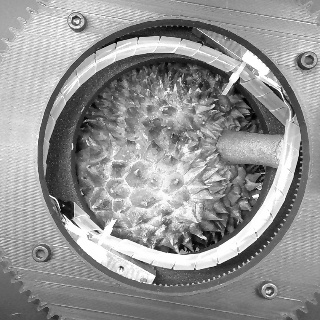base: (214, 129, 245, 170)
end: (274, 133, 284, 164)
